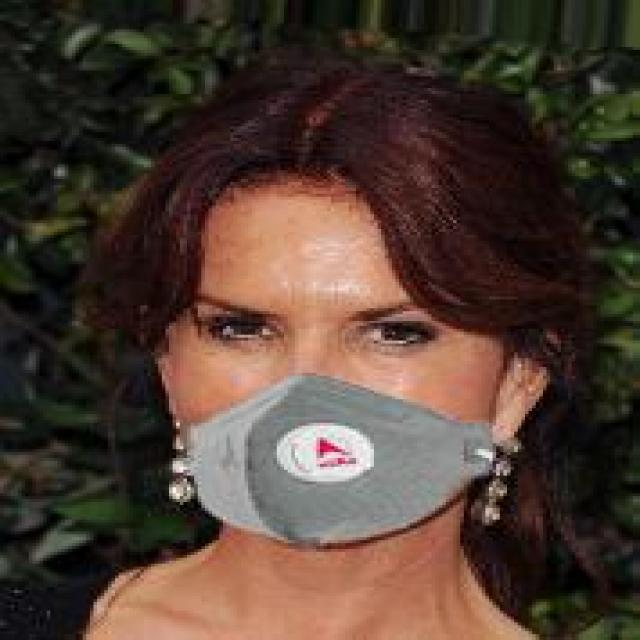mask: (122, 120, 582, 582)
